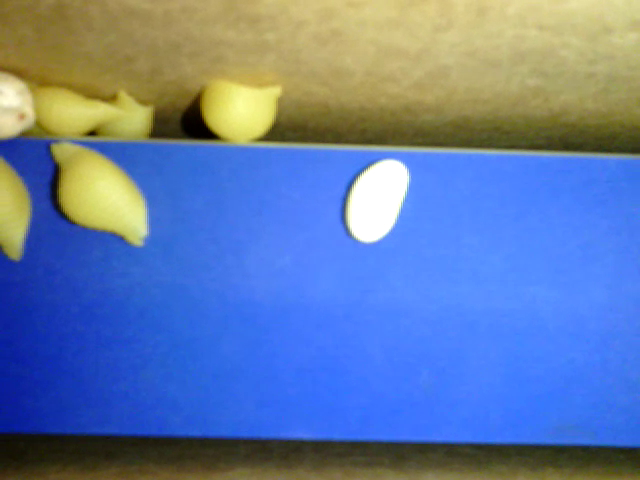shell: (51, 140, 150, 248), (197, 77, 283, 144), (32, 83, 128, 137), (1, 153, 33, 264), (93, 89, 157, 139), (17, 119, 53, 140)
